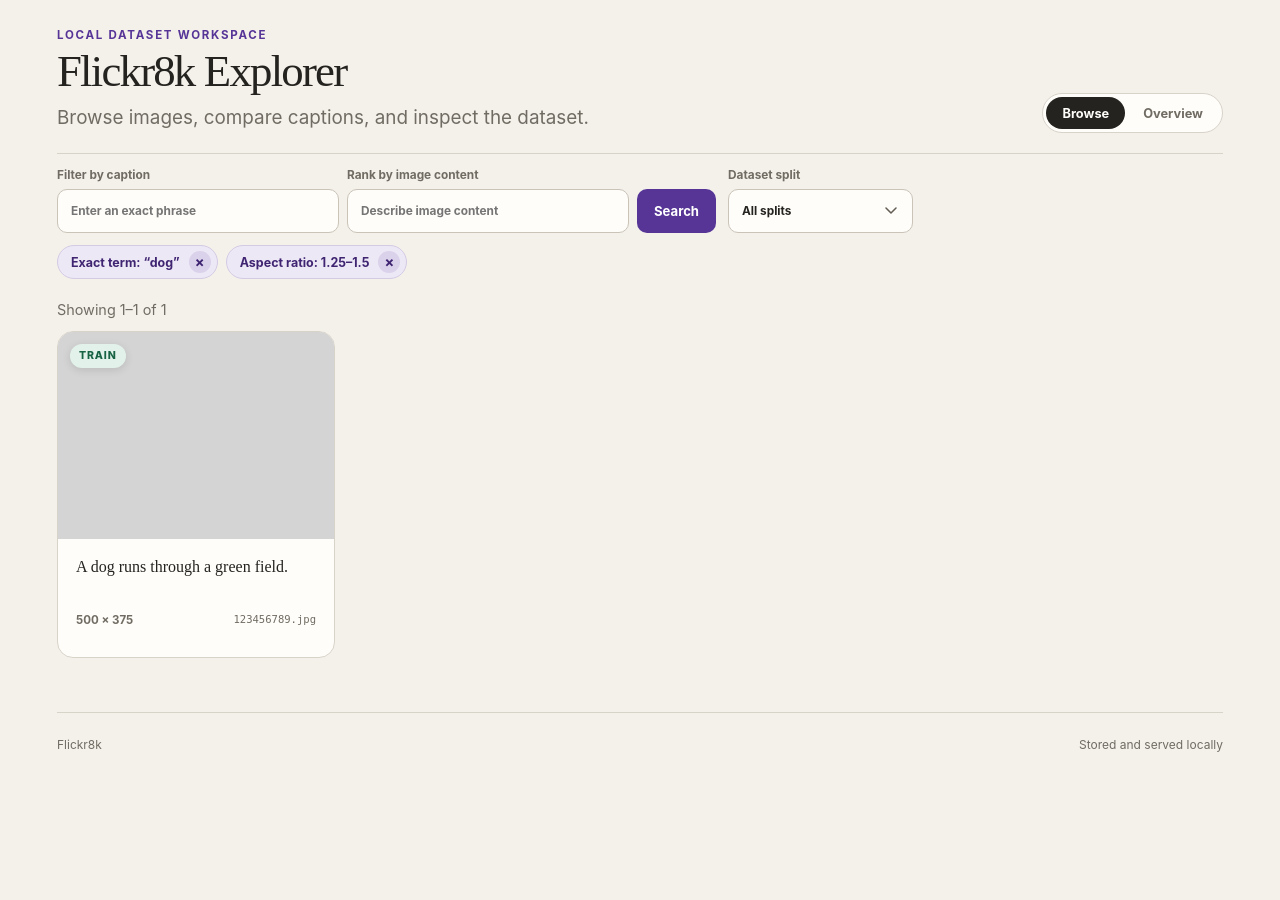
Scenario: applies URL filters to the request and removes them through chips
Expected: the text "Exact term: “dog”" is shown, [71,255,180,270]
Expected: the text "Aspect ratio: 1.25–1.5" is shown, [240,255,370,270]
Click the button named "Remove filter: Exact term: “dog”" at (200, 262), box [189,251,211,273]
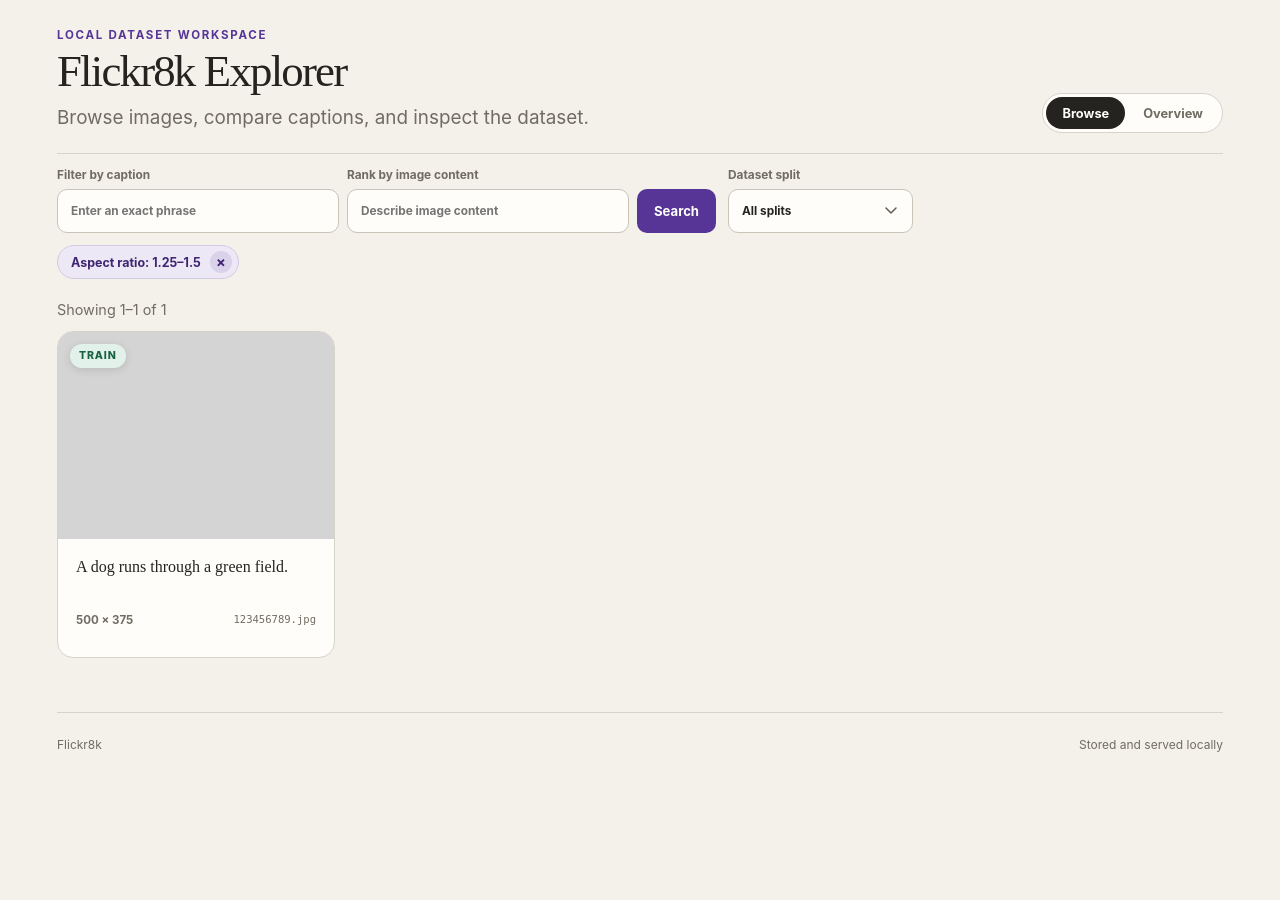
Expected: the text "Aspect ratio: 1.25–1.5" is shown, [71,255,201,270]
Now the text "Exact term: “dog”" is gone
